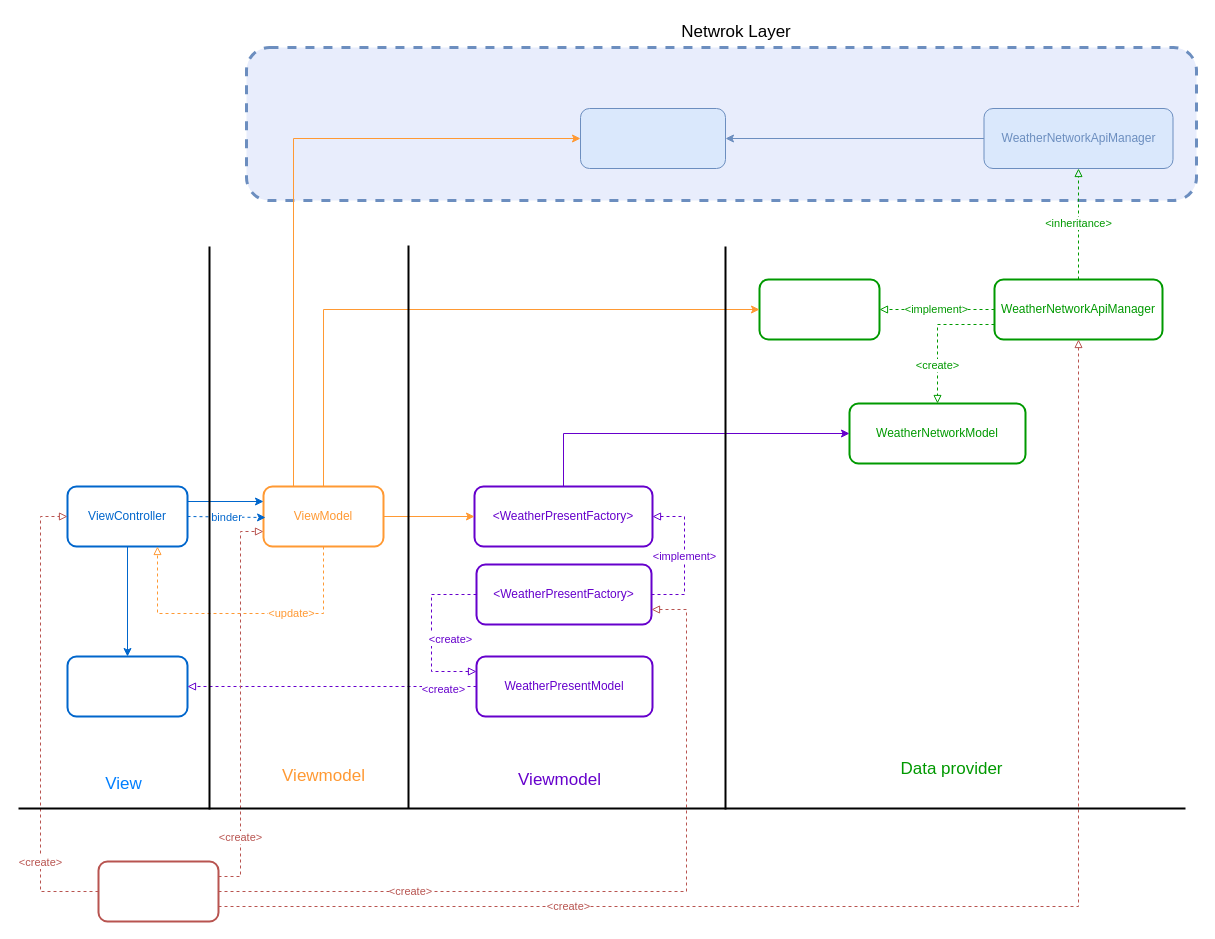
Image size: 1215x939. Some labels were removed from this diagram. The centre of each missing label's shape, as x and y in pixels:
"<DataApiManager>" belongs at point (819, 309).
"ApiErrorManagement" belongs at point (653, 138).
"AppDelegate" belongs at point (158, 891).
"DayWeatherModel" belongs at point (127, 686).
